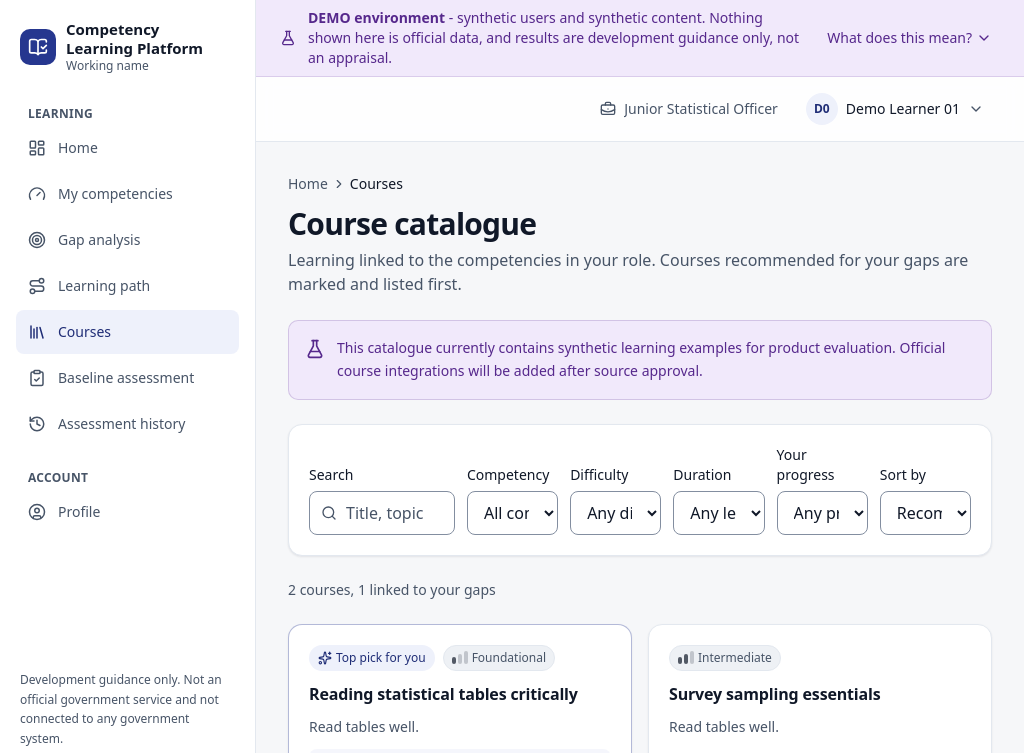
course catalogue › lists courses with recommendation context, one catalogue notice and filters that query the API
Expected: the heading "Course catalogue" is shown, [288,203,536,244]
Expected: the text "2 courses, 1 linked to your gaps" is shown, [288,580,496,600]
Select "Advanced" in the dropdown labelled "Difficulty": (616, 512) [570,490,661,534]
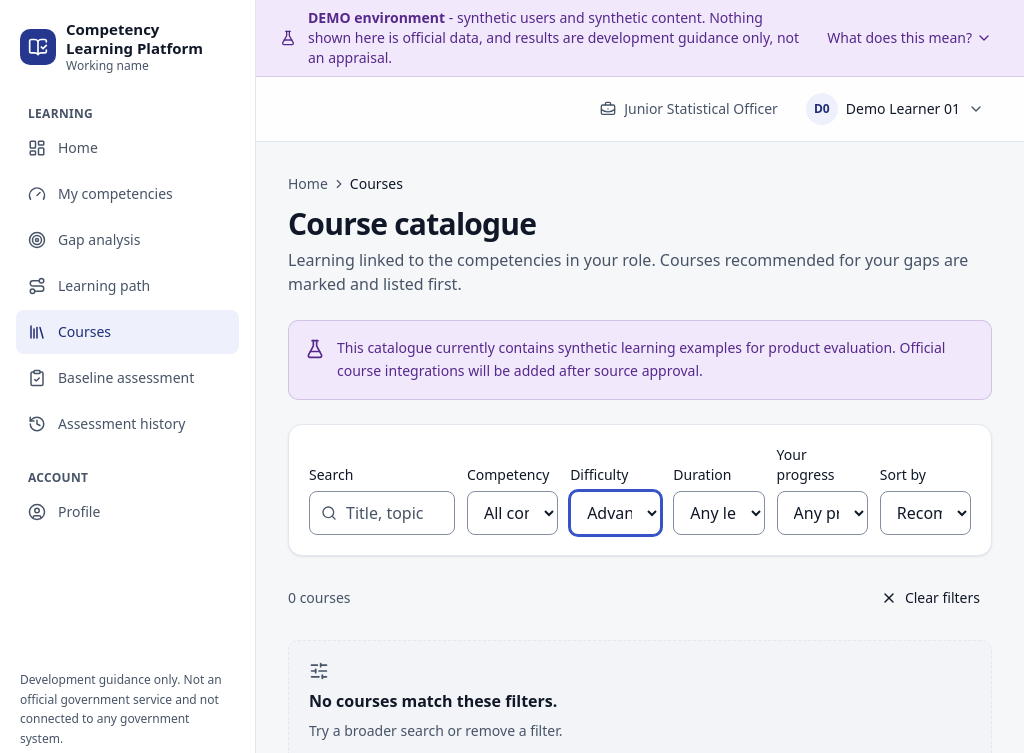
Expected: the text "No courses match these filters." is shown, [309,688,557,712]
Click the button "Clear filters" in the row of "0 courses": (930, 598) [869,580,992,616]
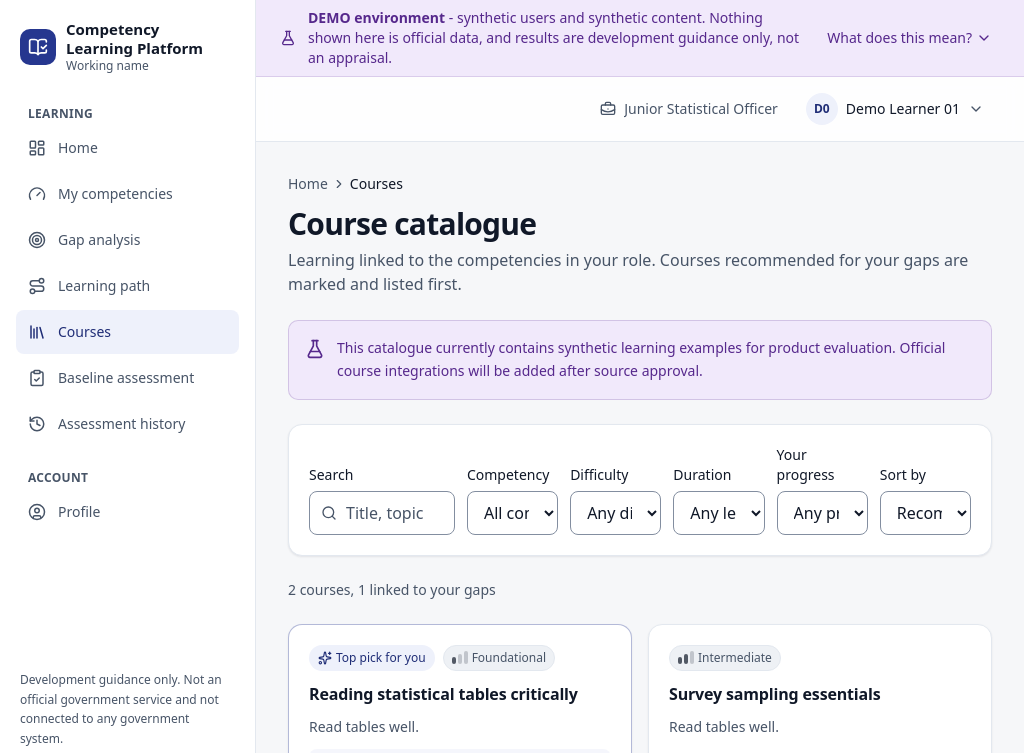
Expected: the text "2 courses, 1 linked to your gaps" is shown, [288,580,496,600]
